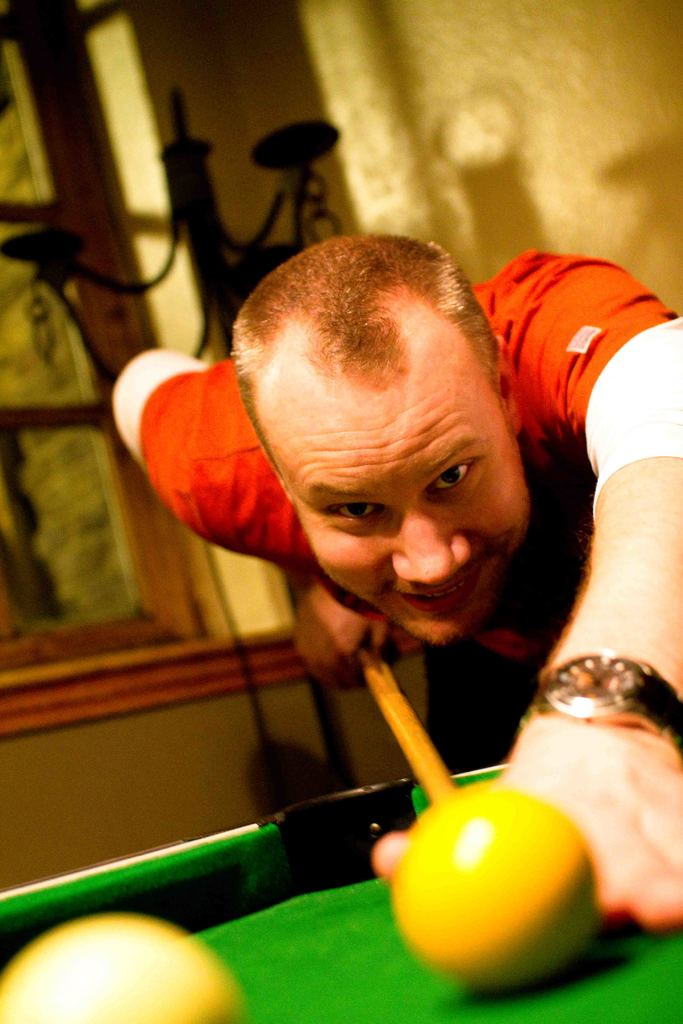Ball: (392, 783, 601, 995), (0, 913, 238, 1023)
